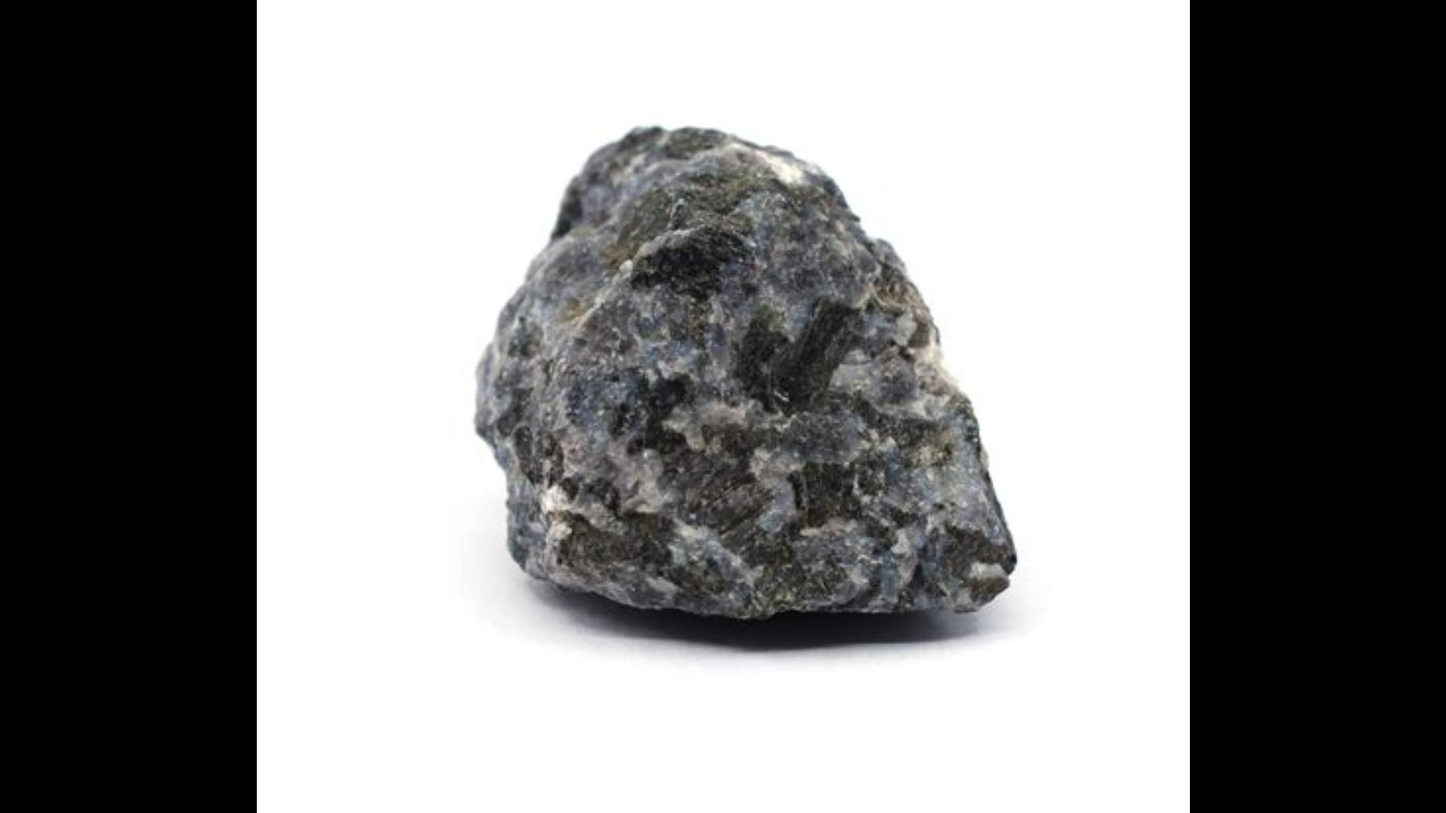rock: (477, 130, 1012, 616)
